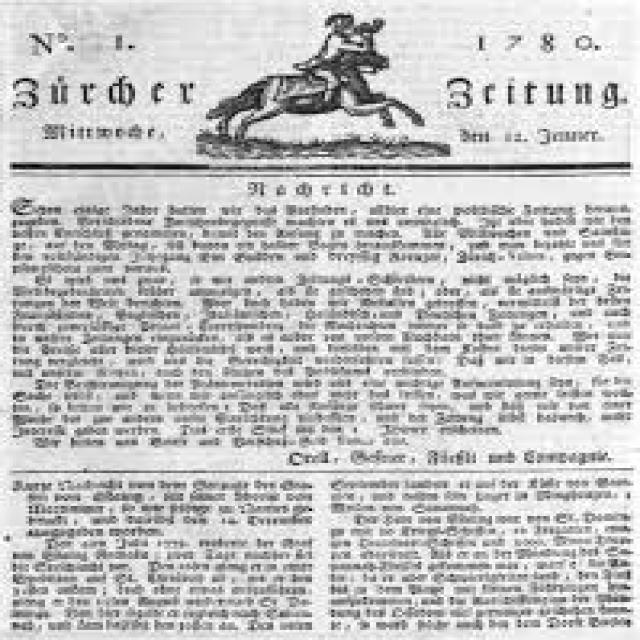paper: (6, 0, 639, 626)
